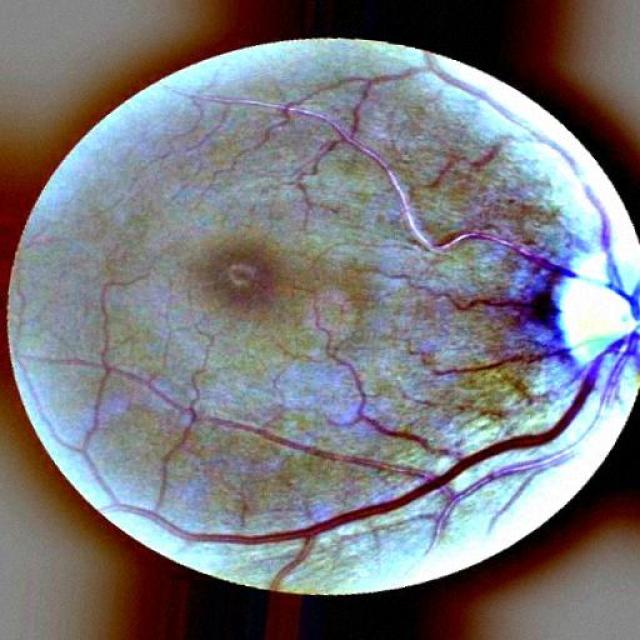Macula: (206, 249, 274, 304)
Nerves: (201, 69, 639, 534), (425, 52, 579, 179), (432, 330, 589, 376), (451, 450, 568, 496)
Optic Disk: (552, 254, 639, 392)
